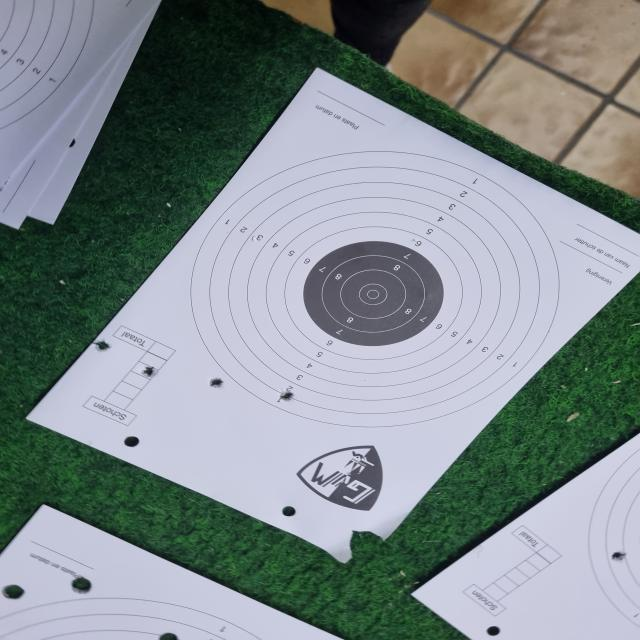0: (94, 338, 112, 352), (208, 375, 224, 390), (143, 366, 157, 378)
2: (278, 390, 294, 402)
Target: (190, 150, 560, 428)
black_contour: (302, 240, 446, 348)
